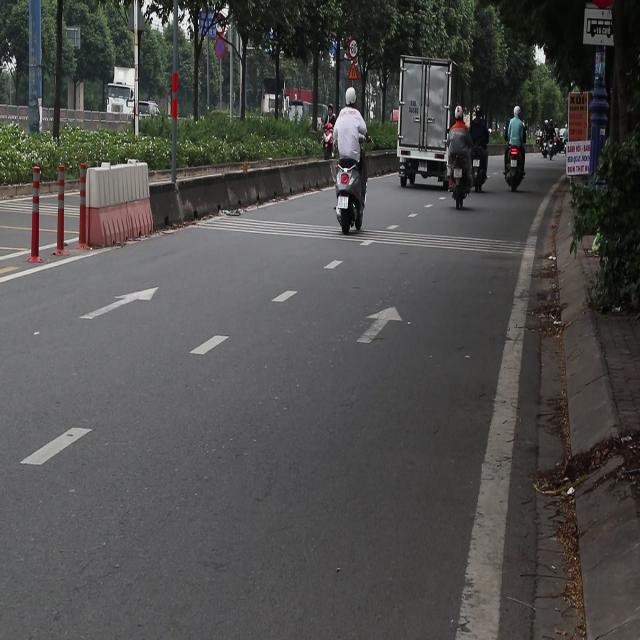car: (137, 102, 163, 119)
motorbike: (334, 154, 367, 234), (446, 128, 476, 209), (470, 131, 489, 200), (504, 142, 527, 192), (542, 137, 560, 158)
truck: (396, 59, 466, 191), (102, 49, 144, 138)
